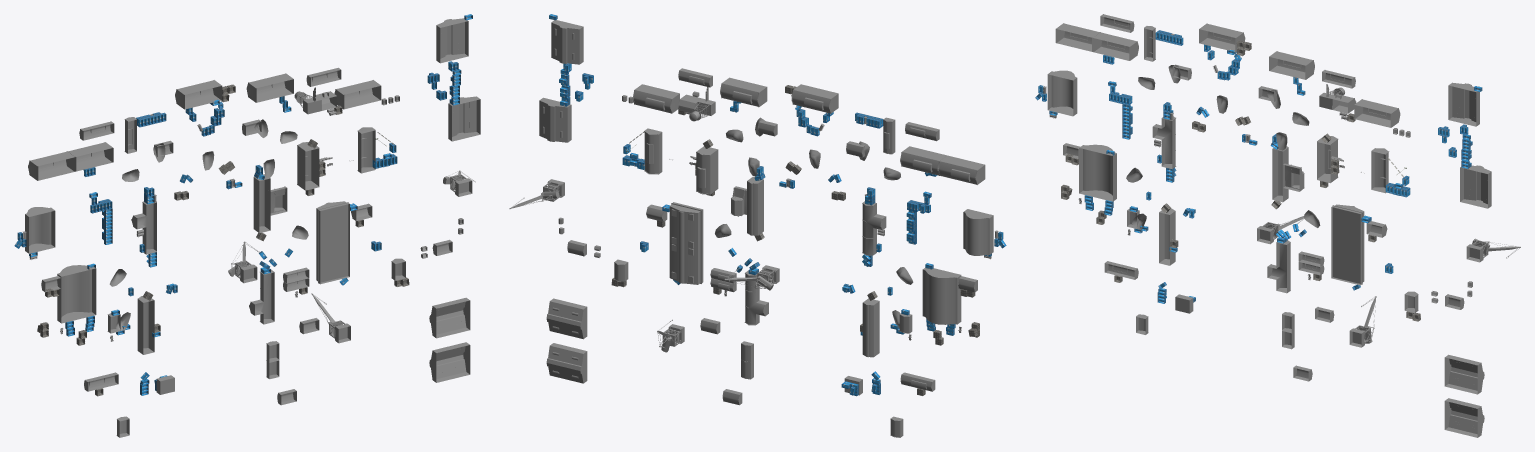
File: AllProps_test.fbx
The picture shows the model from 3 angles, left to right: view 1: azimuth 30°, elevation 25°; view 2: azimuth 150°, elevation 25°; view 3: azimuth 330°, elevation 25°; orthographic projection. The views are drawn at different scales.
Parts seen in each view (by area): view 1: Box017; view 2: Box017; view 3: Box017.
Boxes of the visible parts, bbox=[...] form: Box017: bbox=[14, 14, 480, 437]; Box017: bbox=[509, 14, 1006, 437]; Box017: bbox=[1035, 14, 1520, 437].
Size of the model in its own units: 14303 by 10393 by 1432.
